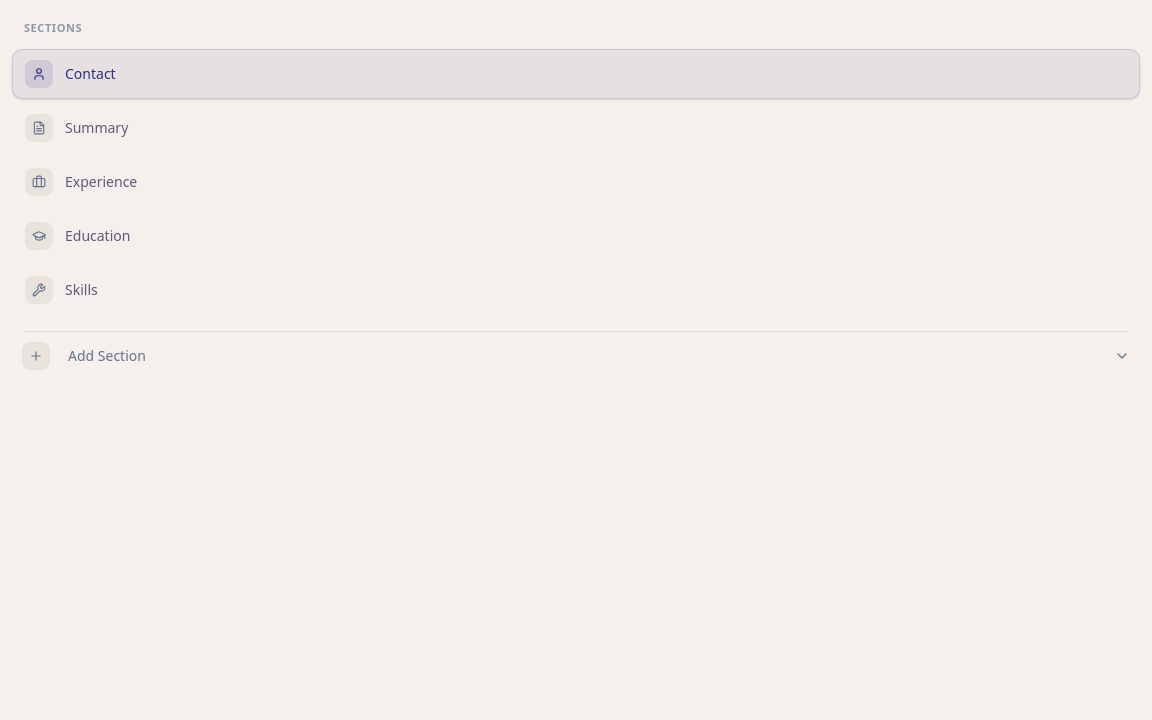
Scenario: Sidebar › clicking "Add Section" shows available optional sections
Click the button "Add Section" at (107, 355), box top-left (12, 340), bottom-right (1140, 372)
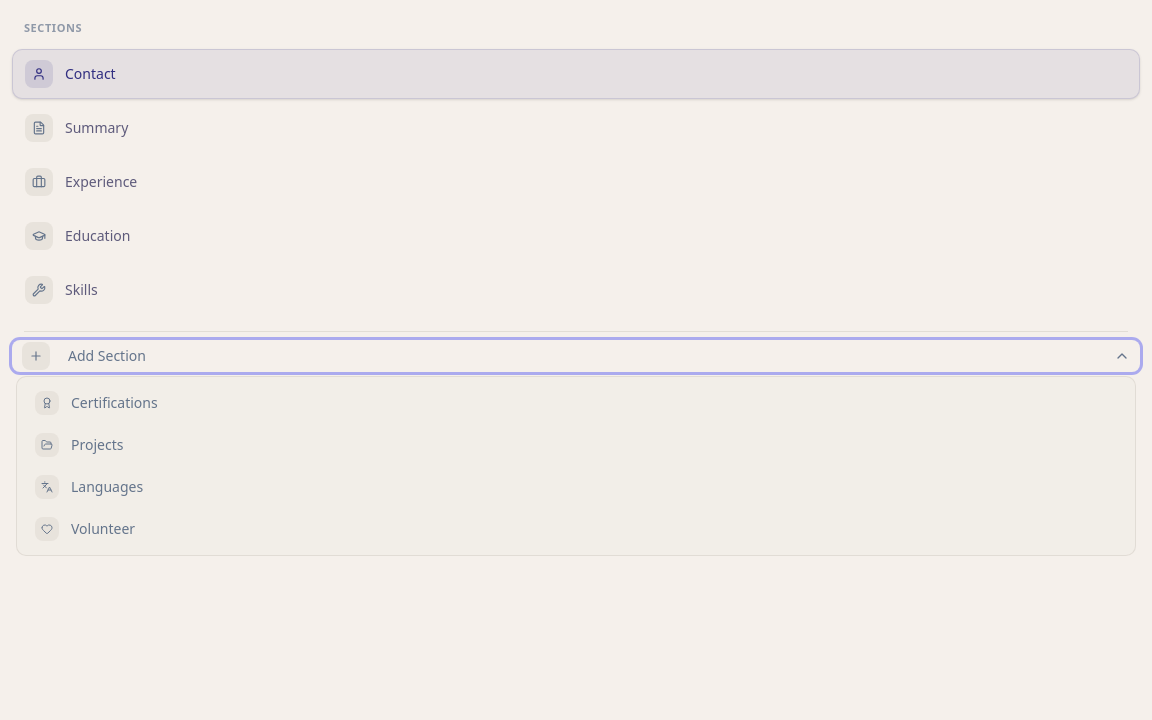
Result: the button "Certifications" is shown at top-left (23, 382), bottom-right (1129, 422)
Result: the button "Projects" is shown at top-left (23, 424), bottom-right (1129, 464)
Result: the button "Languages" is shown at top-left (23, 466), bottom-right (1129, 506)
